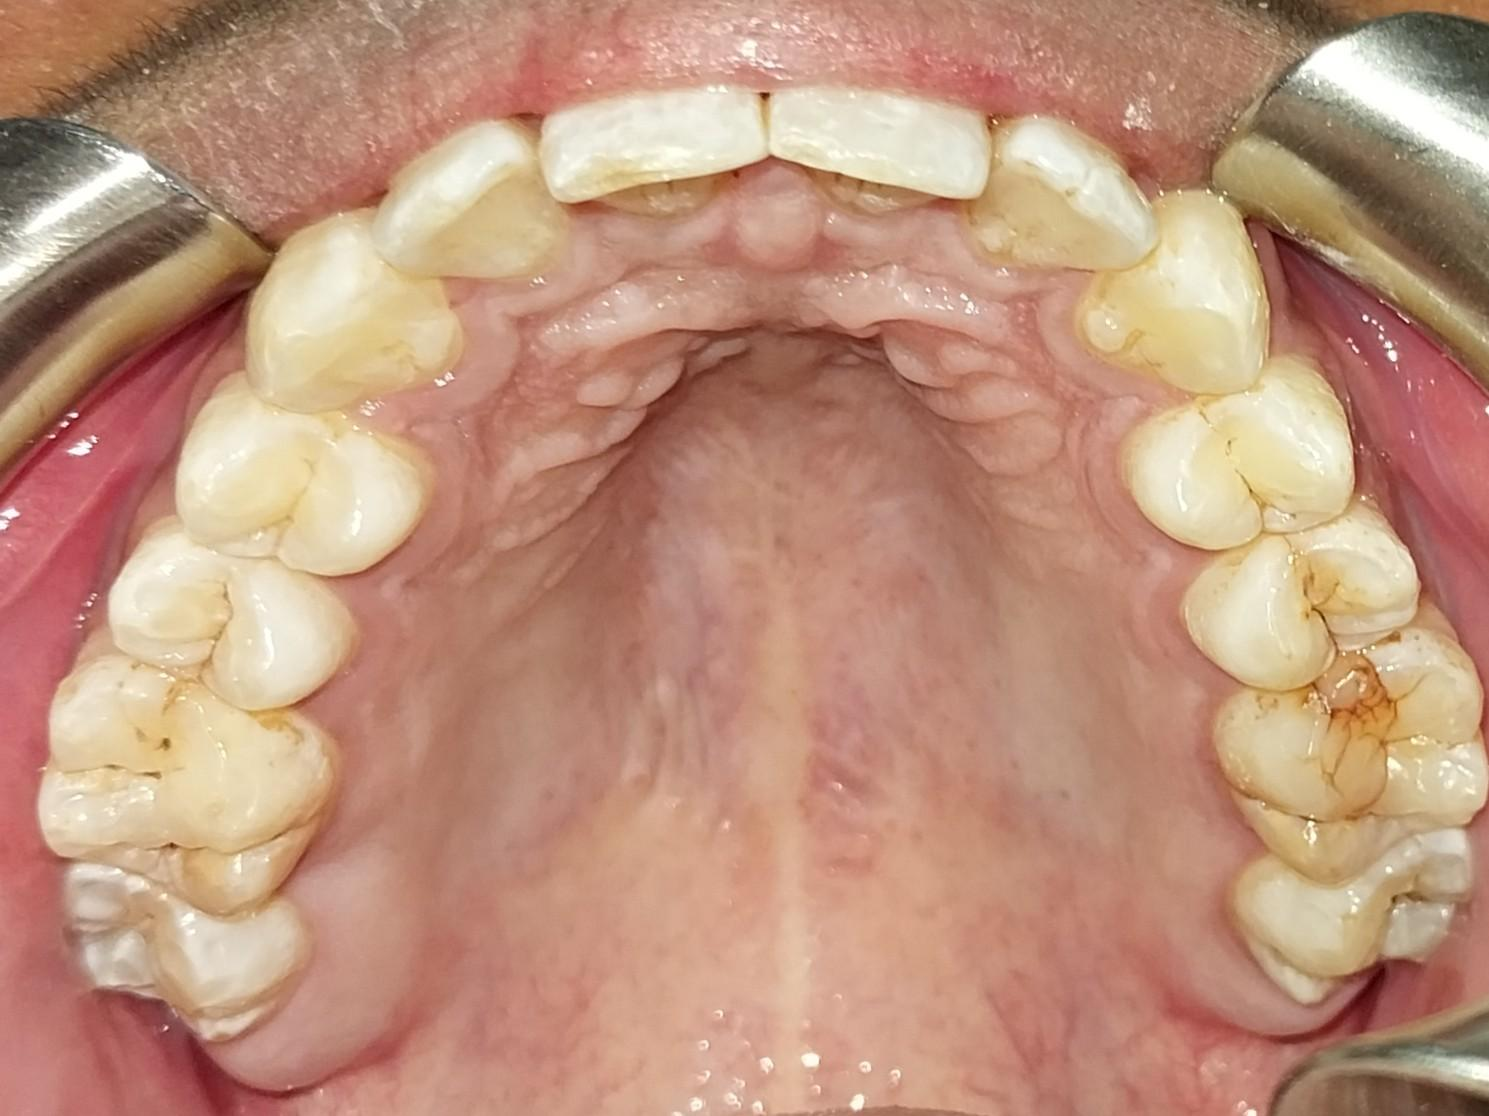D: (36, 657, 343, 921), (1211, 620, 1487, 884), (1223, 829, 1484, 1011), (1175, 513, 1424, 685)
